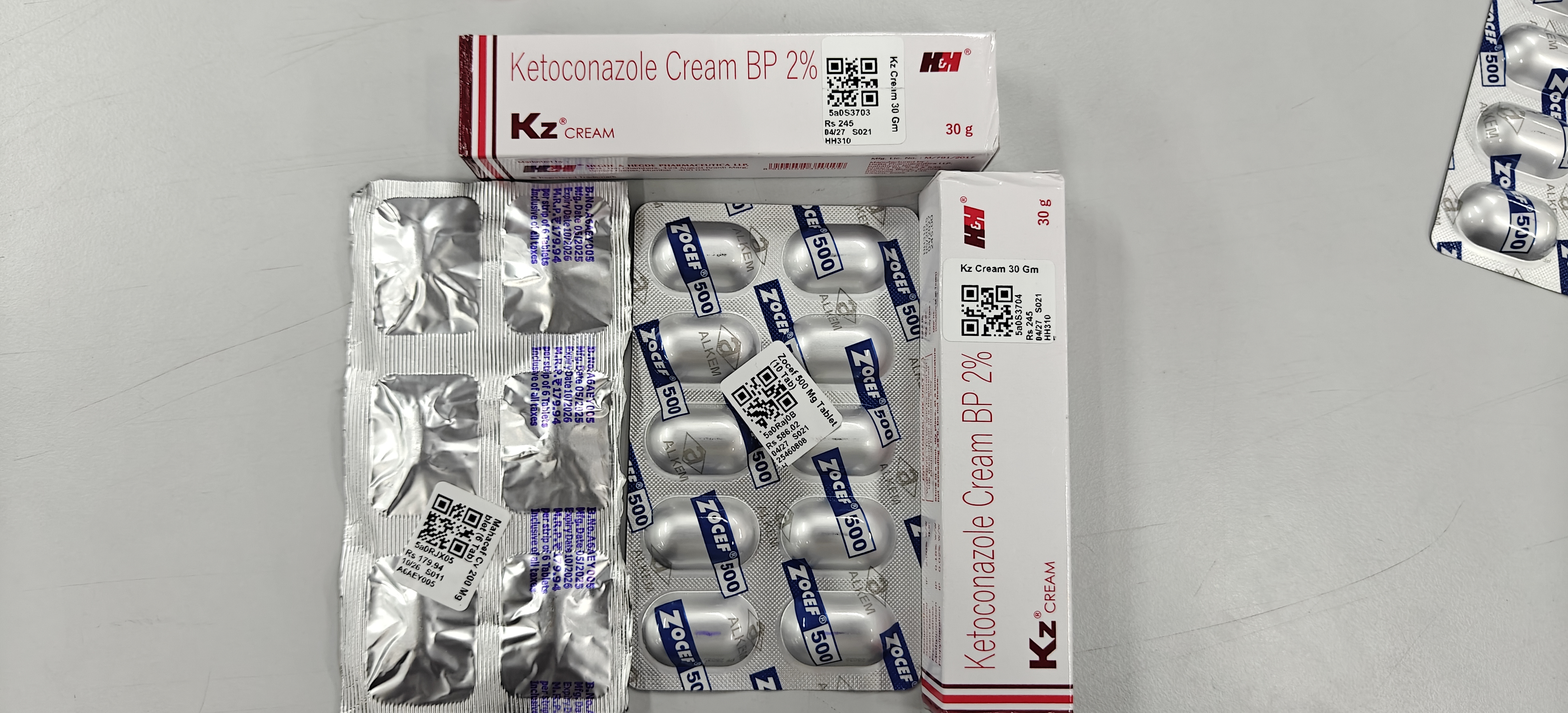qr_code: (730, 366, 798, 433), (416, 493, 483, 558), (826, 58, 878, 108)
